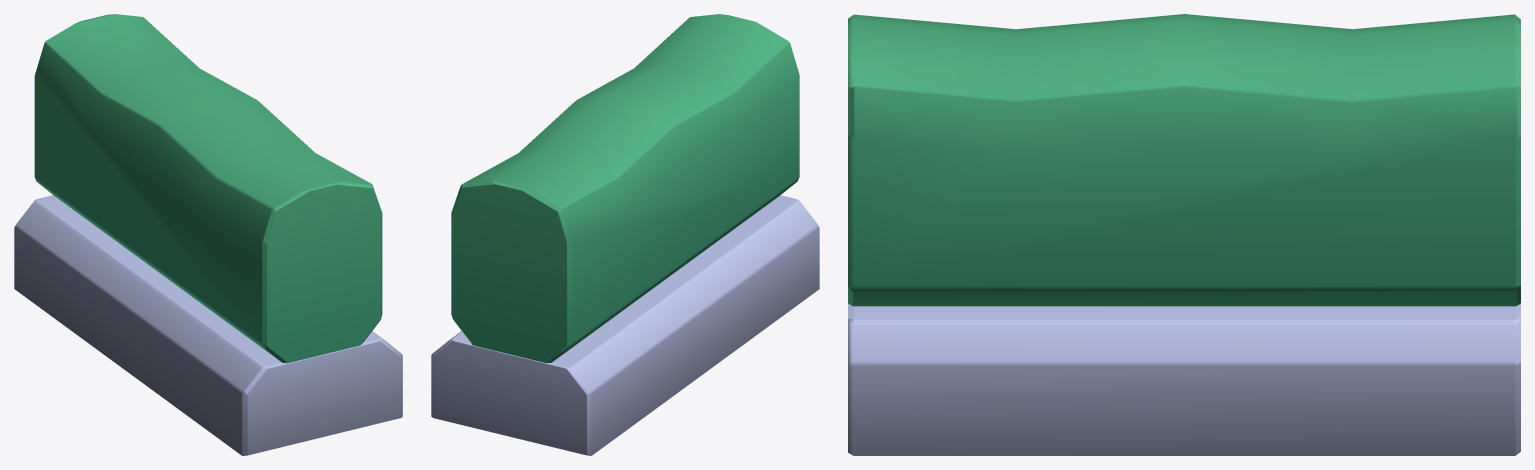
File: kenney-fantasy-town__hedge-large.glb
3 renders of one model, left to right at view 1: azimuth 30°, elevation 25°; view 2: azimuth 150°, elevation 25°; view 3: azimuth 270°, elevation 25°, orthographic. The views are drawn at different scales.
Parts seen in each view (by area): view 1: hedge-large; view 2: hedge-large; view 3: hedge-large.
Boxes of the visible parts, x1,y1,x2,y2 form: hedge-large: (14, 14, 402, 455); hedge-large: (431, 14, 819, 455); hedge-large: (848, 14, 1520, 455).
Size of the model in its own units: 0.4 by 0.6 by 1.
1 material, 1 textured.
